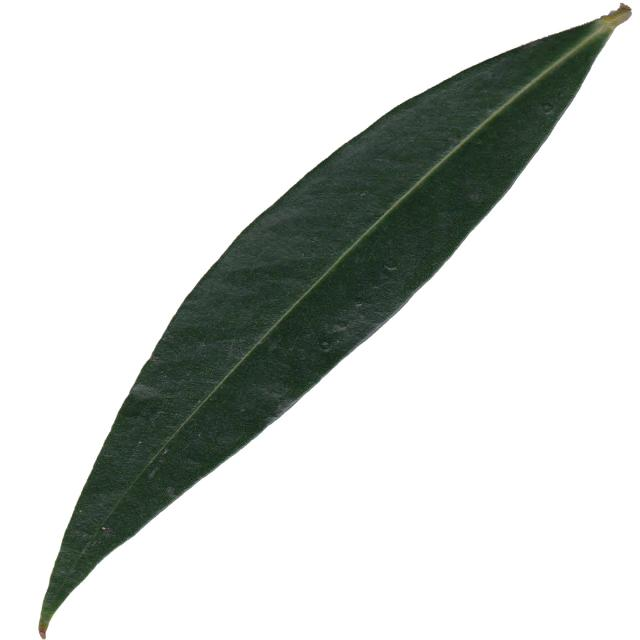Medicinal-Rose Apple: (40, 5, 632, 640)
